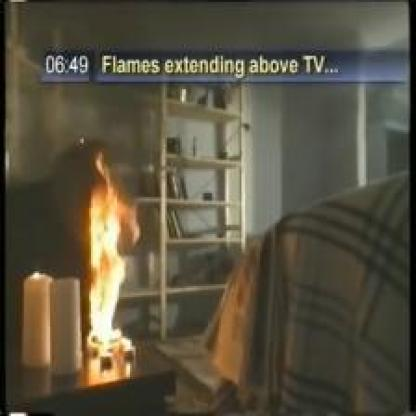fire: (80, 150, 137, 348)
smoke: (22, 3, 333, 43)
